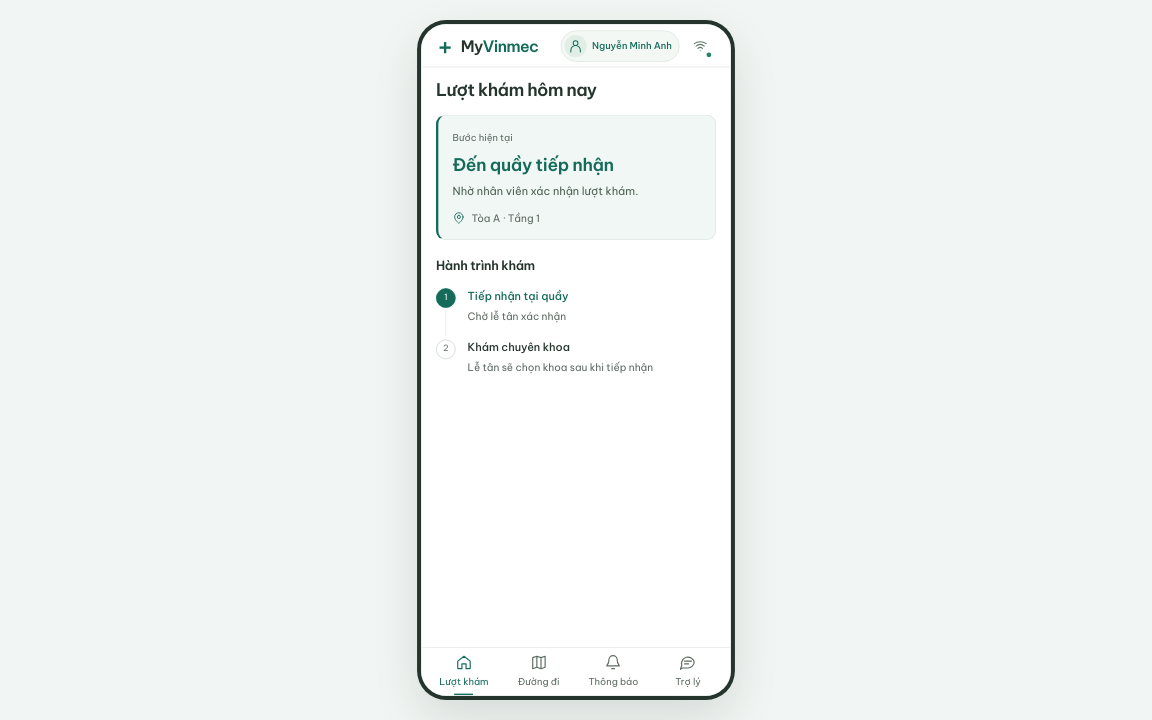
Test: plain product language › keeps the profile personal and exposes connection tools only with the explicit testing URL (tools=true)
Click the button with aria-label "Thông tin người bệnh" at [620, 46], box [560,30,680,61]
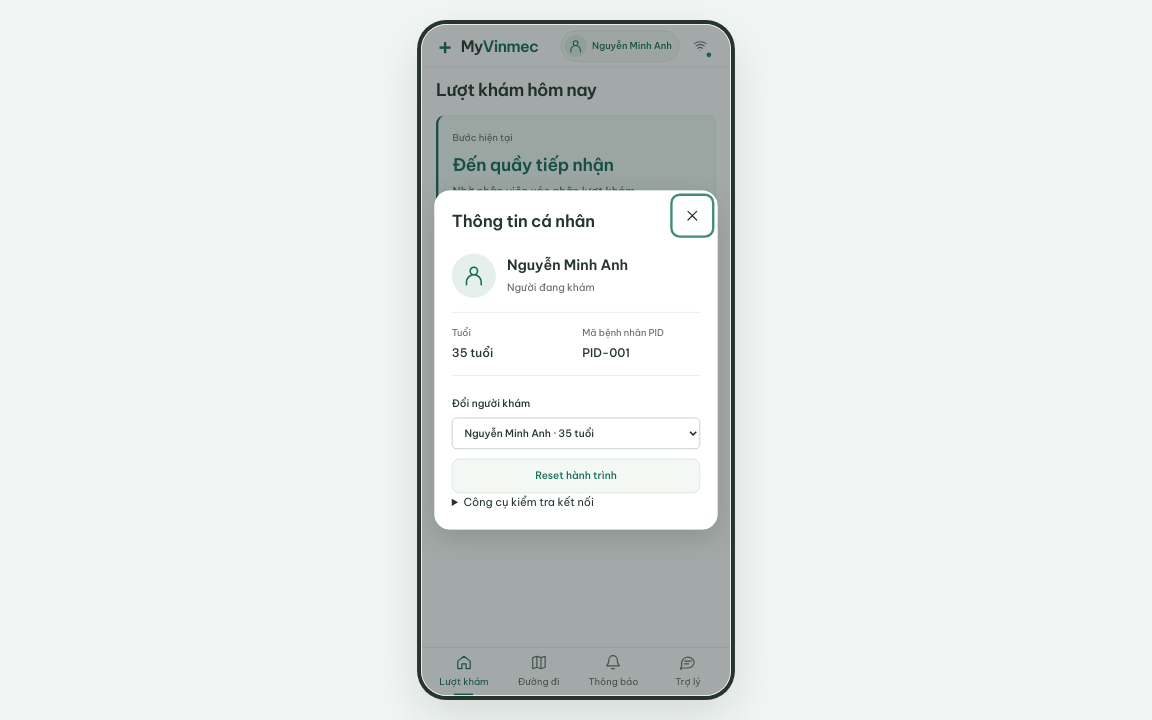
Check: the dialog shows "Thông tin cá nhân", box [452,211,595,232]
Check: the element with class "operator-tools" is shown
Click the heading "Công cụ kiểm tra kết nối" at [529, 502], box [464,494,594,509]
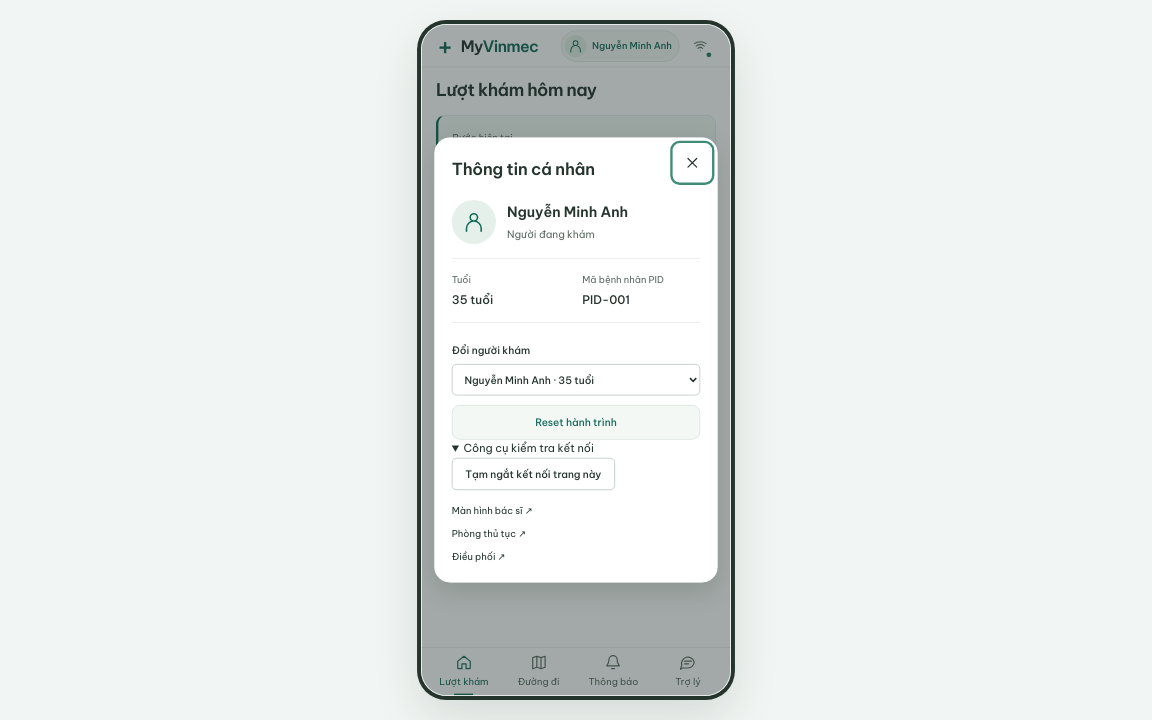
Click the button "Tạm ngắt kết nối trang này" at [533, 474], box [452,458,615,490]
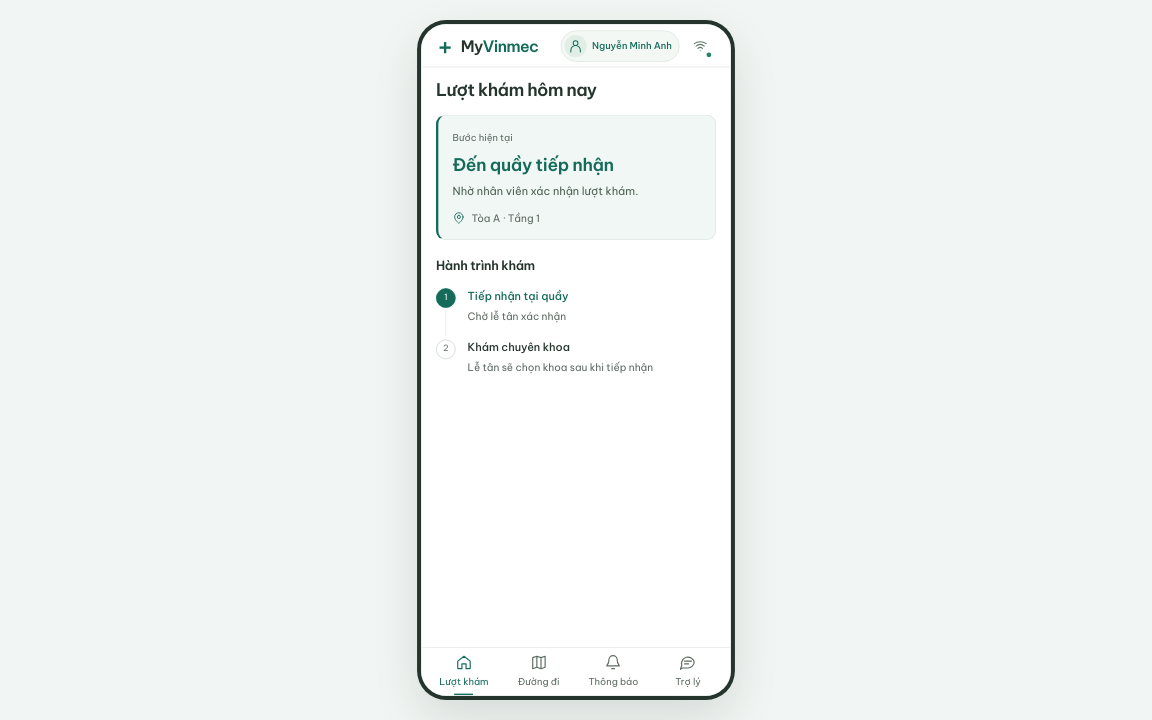
Check: the dialog is gone
